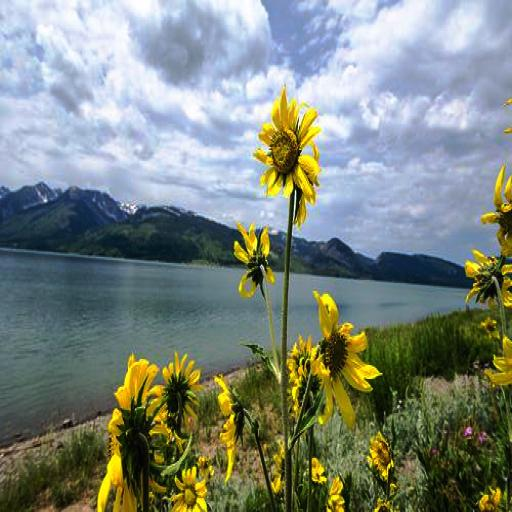sunflower: (100, 354, 165, 512), (306, 286, 379, 422), (259, 98, 322, 214), (230, 216, 276, 296), (215, 371, 243, 475), (463, 249, 512, 303), (484, 166, 512, 252), (171, 465, 213, 512), (483, 332, 512, 384), (164, 350, 198, 385)
